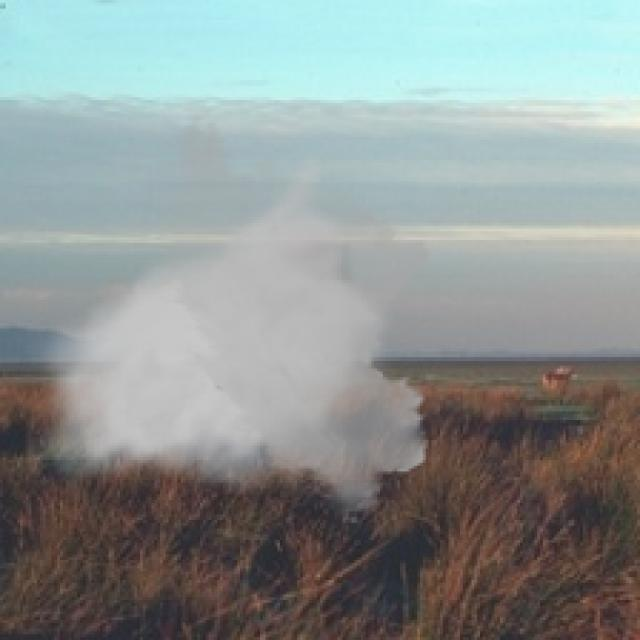Smoke: (26, 111, 440, 526)
